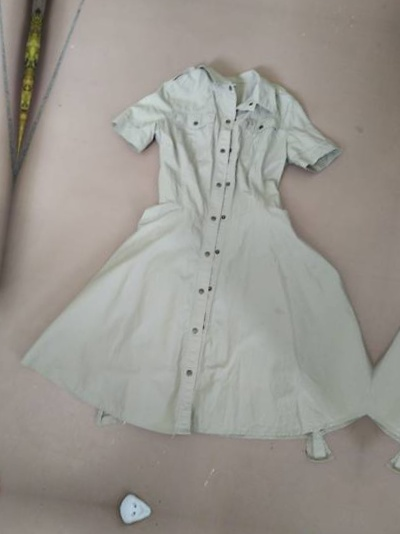Dress: (7, 27, 400, 488), (357, 76, 400, 534), (0, 0, 7, 431)
